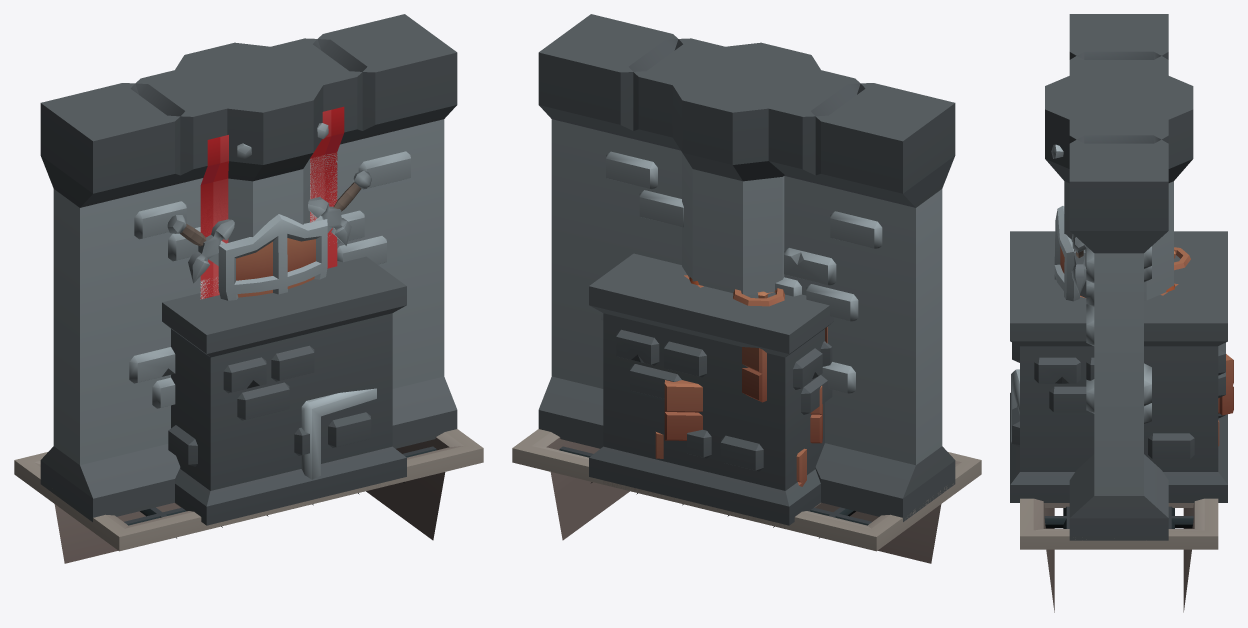
Rendered from raum.glb.
The picture shows the model from 3 angles, left to right: view 1: azimuth 30°, elevation 25°; view 2: azimuth 150°, elevation 25°; view 3: azimuth 270°, elevation 25°; orthographic projection. The views are drawn at different scales.
Parts seen in each view (by area): view 1: wall_gated, wall, floor_foundation_allsides, banner_shield_red, floor_tile_grate_open, pillar, crates_stacked, banner_patternA_red; view 2: wall_gated, wall, floor_foundation_allsides, pillar, floor_tile_grate_open, crates_stacked; view 3: wall_gated, floor_foundation_allsides, wall, pillar, floor_tile_grate_open, banner_shield_red, crates_stacked.
Part boxes in pixels (x1,y1,x2,y2): wall_gated: (40, 14, 457, 521); wall: (40, 16, 457, 519); floor_foundation_allsides: (162, 256, 406, 525); banner_shield_red: (167, 106, 371, 300); floor_tile_grate_open: (14, 429, 483, 563); pillar: (175, 42, 323, 242); crates_stacked: (301, 388, 376, 479); banner_patternA_red: (200, 153, 337, 299); wall_gated: (538, 14, 955, 521); wall: (538, 14, 944, 515); floor_foundation_allsides: (589, 253, 833, 525); pillar: (672, 42, 820, 295); floor_tile_grate_open: (512, 429, 981, 563); crates_stacked: (655, 277, 827, 486); wall_gated: (1069, 14, 1168, 540); floor_foundation_allsides: (1010, 231, 1227, 502); wall: (1069, 14, 1165, 540); pillar: (1045, 76, 1193, 300); floor_tile_grate_open: (1020, 498, 1218, 612); banner_shield_red: (1051, 144, 1086, 301); crates_stacked: (1011, 247, 1233, 446).
Bounding box in the file's own units: 4 × 4.98 × 2.26.
1 material, 1 textured.
